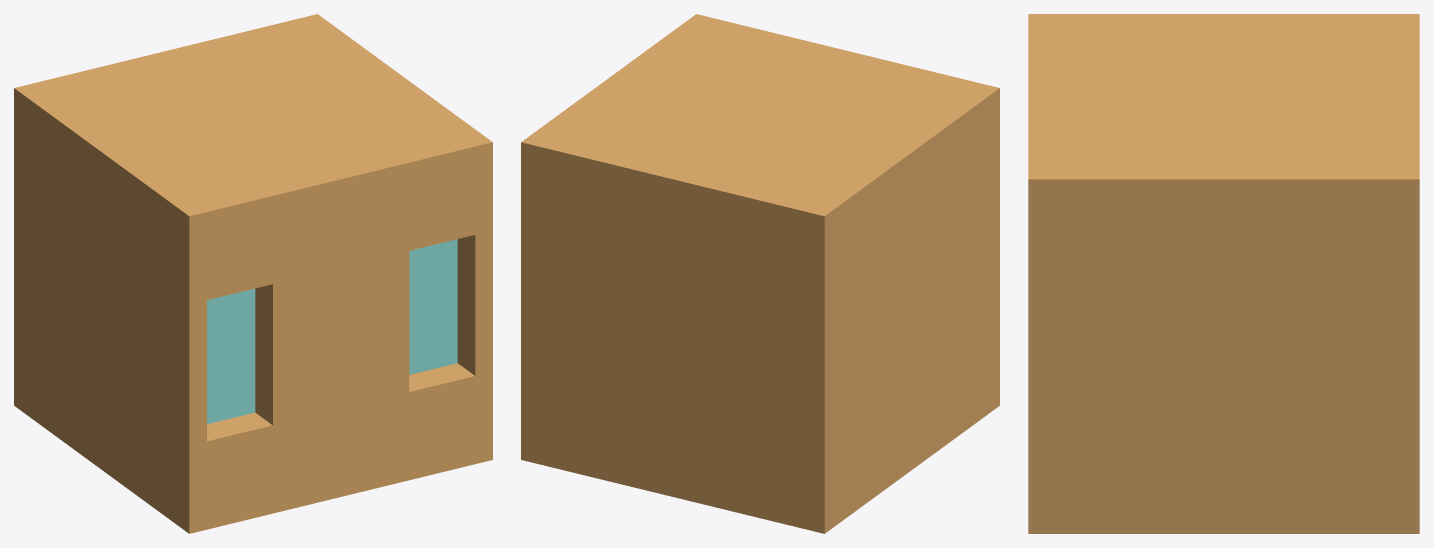
The model's file is Building Mid.fbx.
3 renders of one model, left to right at view 1: azimuth 30°, elevation 25°; view 2: azimuth 150°, elevation 25°; view 3: azimuth 270°, elevation 25°, orthographic. The views are drawn at different scales.
Visible parts, largest first — view 1: middle; view 2: middle; view 3: middle.
Part boxes in pixels (left/top/right/bottom): middle: left=14, top=14, right=492, bottom=533; middle: left=521, top=14, right=999, bottom=533; middle: left=1028, top=14, right=1419, bottom=533.
Size of the model in its own units: 300 by 300 by 300.
